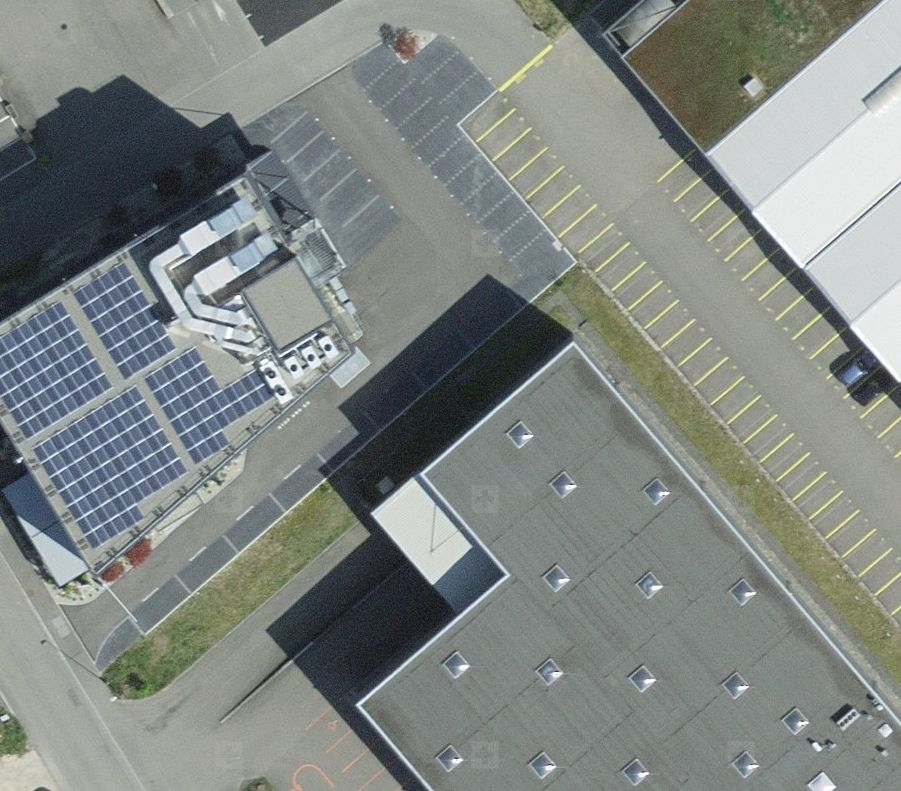solar: (1, 258, 277, 554)
